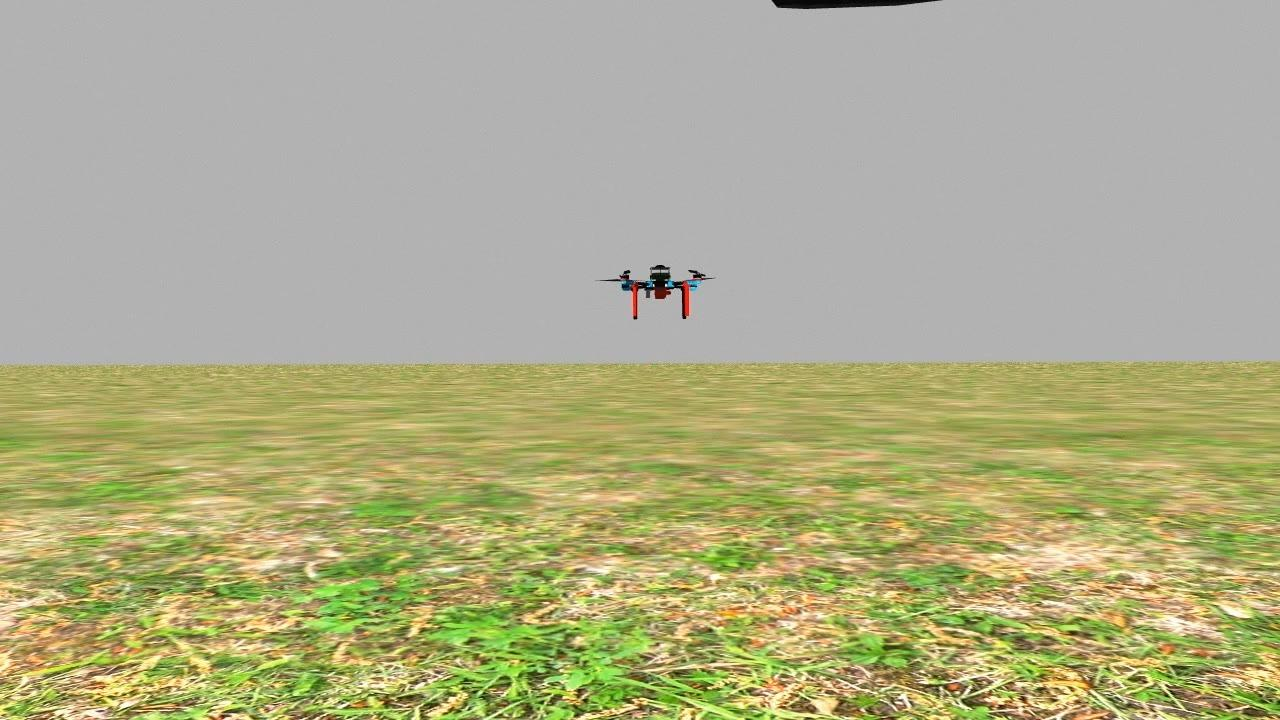UAV: (593, 254, 728, 326)
